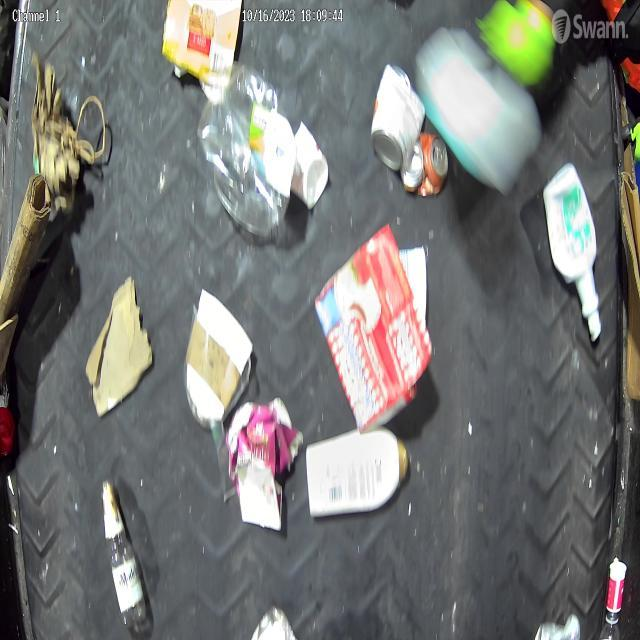can: (371, 64, 426, 173), (401, 133, 449, 198)
non_white_jug: (224, 394, 304, 532)
